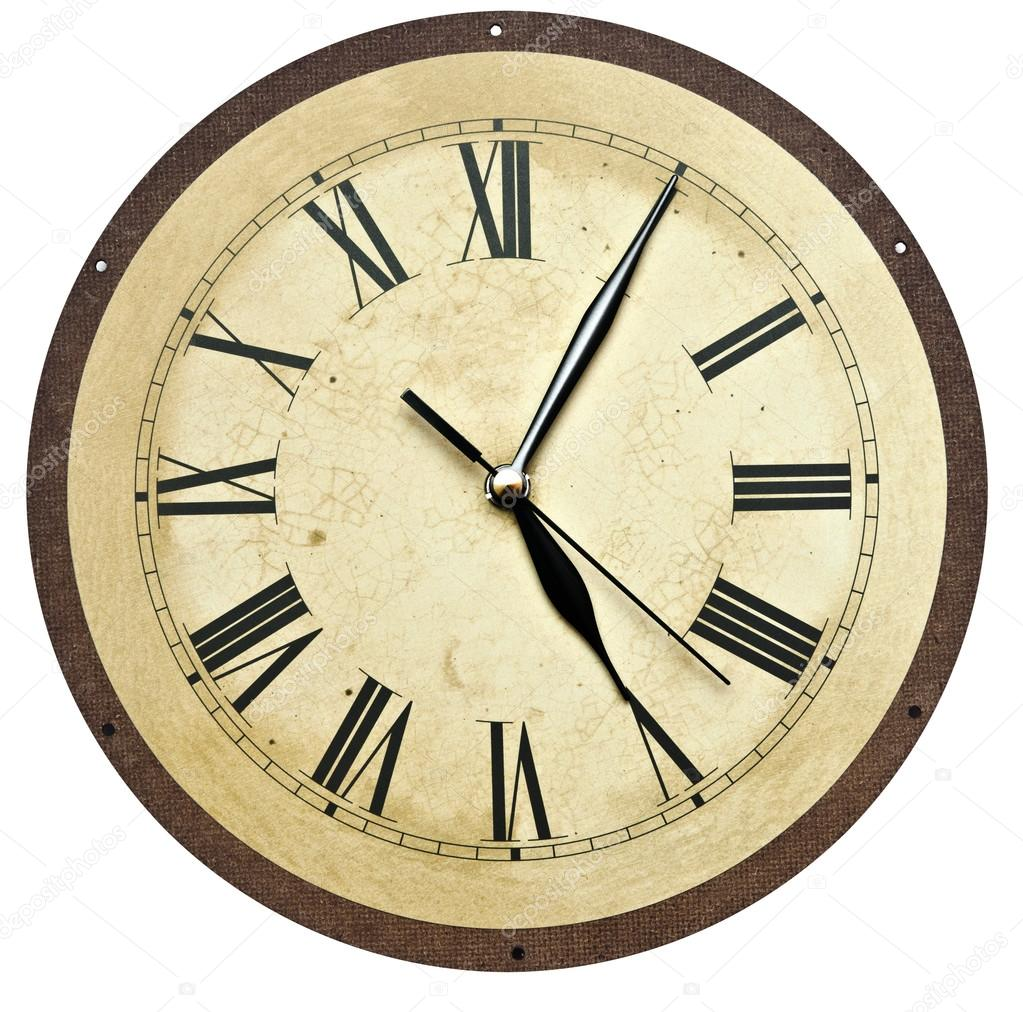clock: (136, 117, 881, 861)
